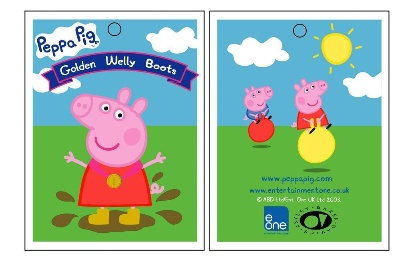Peppa: (64, 87, 166, 226), (290, 77, 333, 131)
